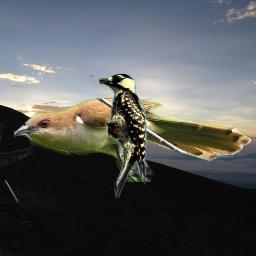Cuckoo: (14, 98, 253, 182)
Woodpecker: (96, 73, 149, 199)
